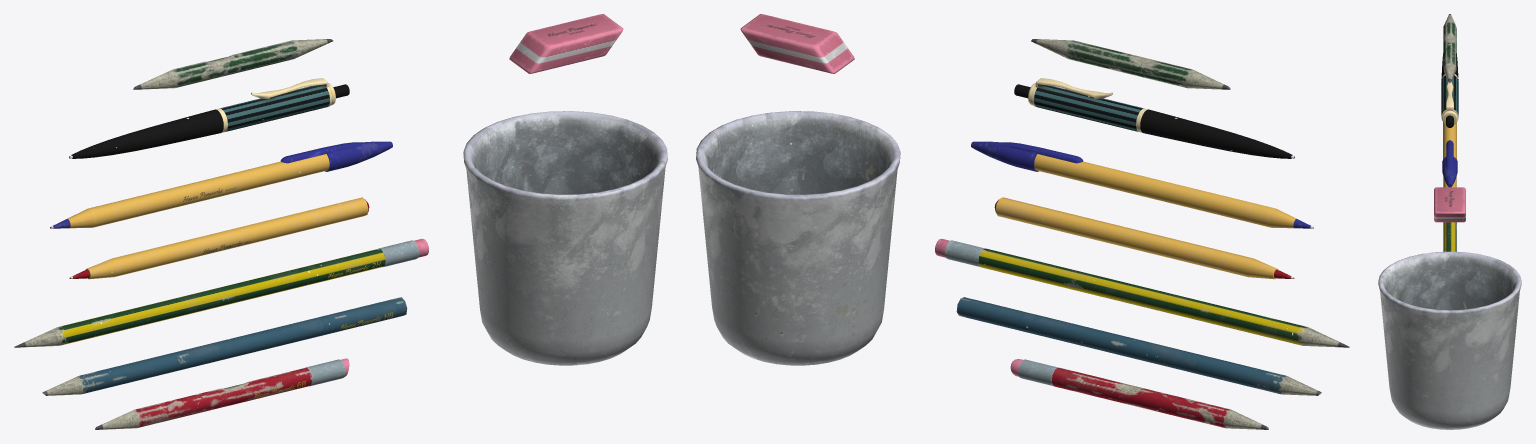
File: stationery.glb
3 renders of one model, left to right at view 1: azimuth 30°, elevation 25°; view 2: azimuth 150°, elevation 25°; view 3: azimuth 270°, elevation 25°, orthographic. The views are drawn at different scales.
Parts seen in each view (by area): view 1: stationery_supplies_pencilcup, stationery_supplies_pencil_new_a, stationery_supplies_pencil_new_b, stationery_supplies_pen_blue, stationery_supplies_pen_fancy, stationery_supplies_pen_red, stationery_supplies_pencil_used, stationery_supplies_eraser, stationery_supplies_pencil_old; view 2: stationery_supplies_pencilcup, stationery_supplies_pencil_new_a, stationery_supplies_pencil_new_b, stationery_supplies_pen_blue, stationery_supplies_pen_fancy, stationery_supplies_pen_red, stationery_supplies_pencil_used, stationery_supplies_eraser, stationery_supplies_pencil_old; view 3: stationery_supplies_pencilcup, stationery_supplies_eraser, stationery_supplies_pen_fancy, stationery_supplies_pen_blue, stationery_supplies_pencil_old, stationery_supplies_pencil_new_a.
Part boxes in pixels (x1,y1,x2,y2): stationery_supplies_pencilcup: (463,111,667,365); stationery_supplies_pencil_new_a: (14,238,428,347); stationery_supplies_pencil_new_b: (42,297,407,395); stationery_supplies_pen_blue: (50,141,392,228); stationery_supplies_pen_fancy: (69,78,349,158); stationery_supplies_pen_red: (69,197,369,279); stationery_supplies_pencil_used: (95,358,349,429); stationery_supplies_eraser: (509,14,623,73); stationery_supplies_pencil_old: (133,39,333,89); stationery_supplies_pencilcup: (696,111,900,365); stationery_supplies_pencil_new_a: (935,238,1349,347); stationery_supplies_pencil_new_b: (956,297,1321,395); stationery_supplies_pen_blue: (971,141,1313,228); stationery_supplies_pen_fancy: (1014,78,1294,158); stationery_supplies_pen_red: (994,197,1294,279); stationery_supplies_pencil_used: (1010,359,1268,429); stationery_supplies_eraser: (740,14,854,73); stationery_supplies_pencil_old: (1031,39,1230,89); stationery_supplies_pencilcup: (1378,251,1521,429); stationery_supplies_eraser: (1434,187,1465,222); stationery_supplies_pen_fancy: (1441,53,1458,127); stationery_supplies_pen_blue: (1442,122,1457,187); stationery_supplies_pencil_old: (1443,14,1456,82); stationery_supplies_pencil_new_a: (1443,222,1456,251).
Bounding box in the file's own units: 0.3019 × 0.1643 × 0.0837.
Materials: 1 (1 with a texture image).
